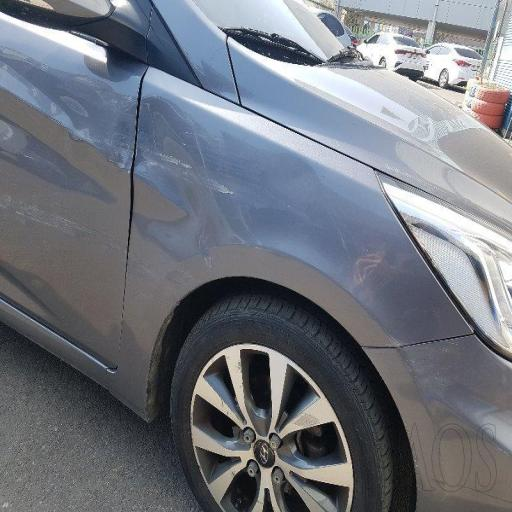broken: (321, 195, 499, 424)
scratch: (15, 58, 274, 340)
